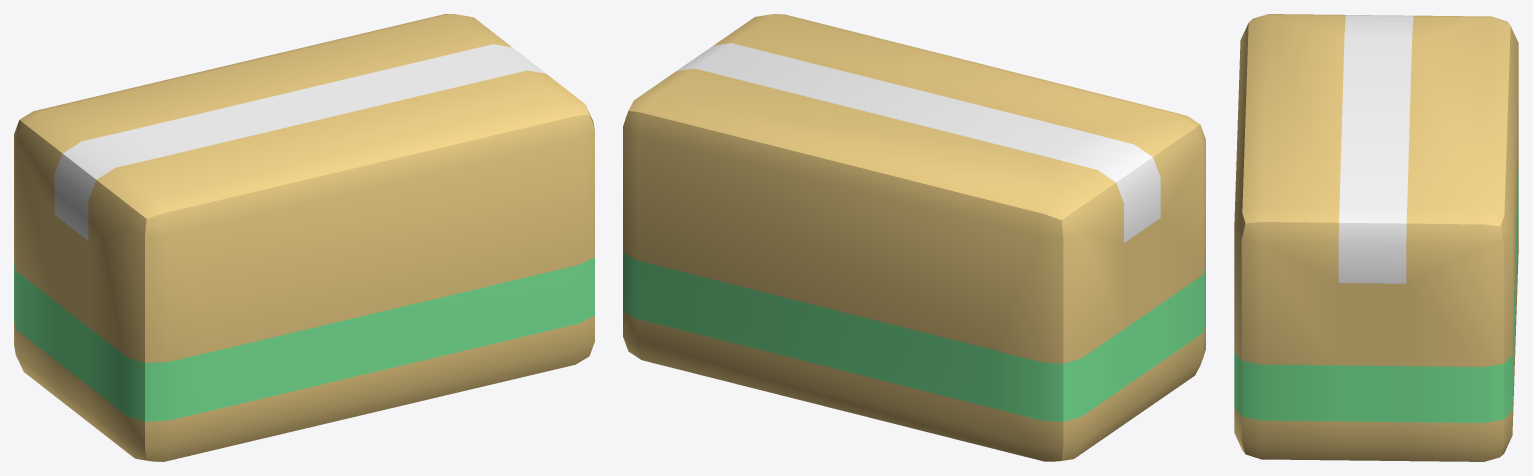
The model's file is Props_Box_Green_02.fbx.
3 views of the same model, side by side, from view 1: azimuth 30°, elevation 25°; view 2: azimuth 150°, elevation 25°; view 3: azimuth 270°, elevation 25° (orthographic). The views are drawn at different scales.
Visible parts, largest first — view 1: Props_Box_Green_02; view 2: Props_Box_Green_02; view 3: Props_Box_Green_02.
Boxes of the visible parts, <box> form: Props_Box_Green_02: <box>14,14,594,461</box>; Props_Box_Green_02: <box>623,14,1205,461</box>; Props_Box_Green_02: <box>1234,14,1518,461</box>.
Size of the model in its own units: 96.84 by 52.32 by 53.48.
